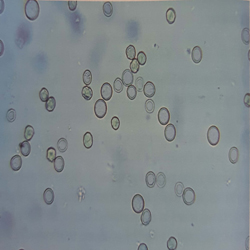RBC: (18, 1, 44, 22), (205, 123, 221, 148), (129, 192, 145, 215), (18, 139, 34, 162), (81, 129, 97, 151), (99, 80, 114, 103), (183, 186, 197, 210), (163, 123, 179, 144), (143, 169, 158, 191), (227, 145, 240, 170), (94, 97, 107, 122), (41, 186, 57, 205), (158, 102, 170, 127), (37, 83, 51, 104), (54, 135, 70, 153), (164, 6, 178, 26), (191, 43, 202, 68), (80, 67, 95, 85), (43, 144, 57, 163), (173, 179, 187, 198), (120, 68, 134, 87), (11, 154, 24, 174), (139, 208, 152, 228), (156, 171, 169, 191), (23, 125, 38, 142), (143, 79, 157, 97), (5, 106, 19, 123), (142, 97, 156, 114), (81, 84, 94, 102), (129, 55, 141, 74), (101, 1, 113, 20), (46, 95, 57, 115), (112, 75, 124, 93), (125, 41, 136, 60), (239, 26, 250, 45), (165, 234, 178, 250), (136, 50, 149, 66), (126, 83, 137, 101), (54, 155, 64, 174), (110, 115, 121, 132), (62, 1, 82, 10), (134, 75, 145, 91), (243, 90, 250, 108), (137, 241, 149, 250)
